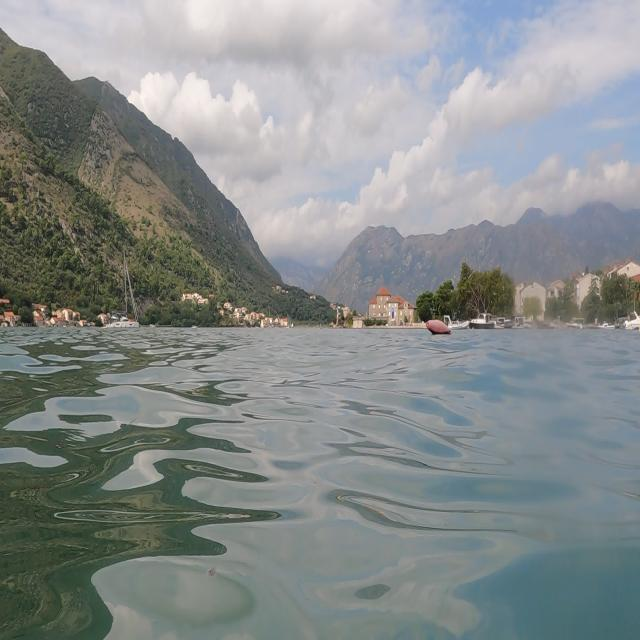boat: (104, 245, 144, 341)
buoy: (424, 314, 458, 346)
